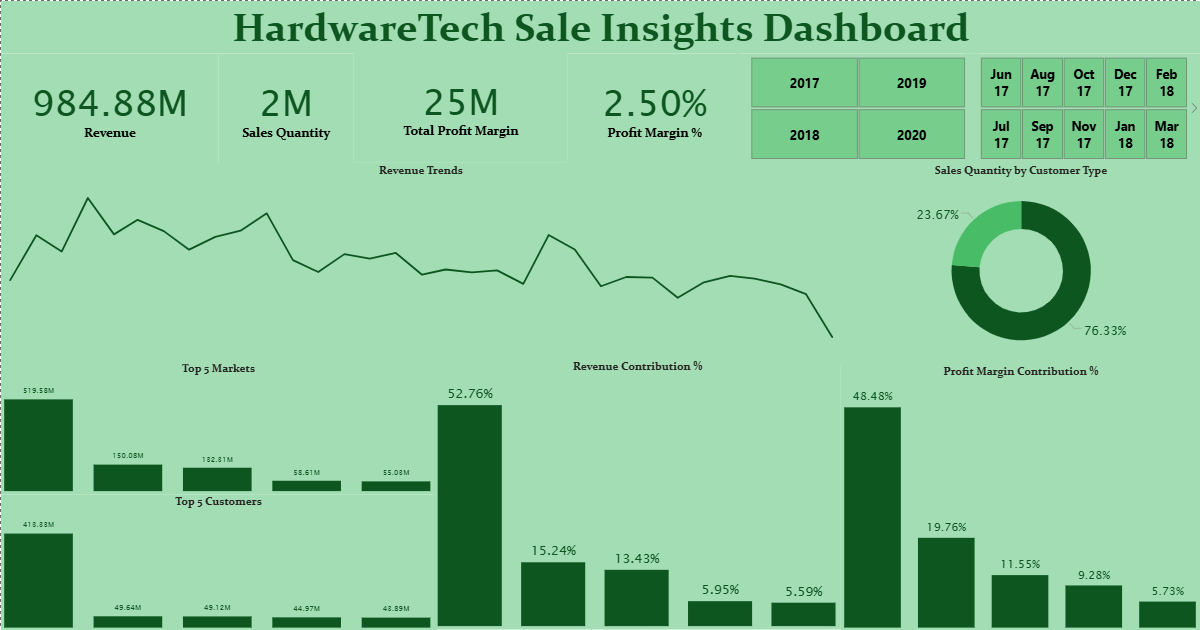

The dashboard page shown, as its layout file describes it:
{"tool":"powerbi","page":{"name":"Page 1","canvas":[2000,1050],"ordinal":0},"visuals":[{"type":"card","fields":{"Values":["BaseMeasures.Revenue"]},"box":[0,87.5,362.5,182.5],"z":0},{"type":"card","fields":{"Values":["BaseMeasures.Sales Quantity"]},"box":[362.5,87.5,225,182.5],"z":1000},{"type":"donutChart","title":"Sales Quantity by Customer Type","fields":{"Category":["sales customers.customer_type"],"Y":["BaseMeasures.Sales Quantity"]},"box":[1400,270,600,335],"z":2000},{"type":"slicer","fields":{"Values":["sales date.year"]},"box":[1225,87.5,405,182.5],"z":3000},{"type":"columnChart","title":"Top 5 Customers","fields":{"Category":["sales customers.custmer_name"],"Y":["BaseMeasures.Revenue"]},"box":[0,822.5,725,227.5],"z":4000},{"type":"columnChart","title":"Top 5 Markets","fields":{"Category":["sales markets.markets_name"],"Y":["BaseMeasures.Revenue"]},"box":[0,600,725,222.5],"z":5000},{"type":"lineChart","title":"Revenue Trends","fields":{"Y":["BaseMeasures.Revenue"],"Category":["sales date.cy_date.Variation.Date Hierarchy.Year","sales date.cy_date.Variation.Date Hierarchy.Month"]},"box":[0,270,1400,335],"z":6000},{"type":"slicer","fields":{"Values":["sales date.cy_date"]},"box":[1607.5,87.5,392.5,182.5],"z":7000},{"type":"shape","box":[0,0,2000,87.5],"z":8000},{"type":"card","fields":{"Values":["BaseMeasures.Total Profit Margin"]},"box":[587.5,82.5,357.5,187.5],"z":9000},{"type":"card","fields":{"Values":["BaseMeasures.Profit Margin %"]},"box":[945,87.5,287.5,182.5],"z":10000},{"type":"columnChart","title":"Profit Margin Contribution %","fields":{"Category":["sales markets.markets_name"],"Y":["BaseMeasures.Profit Margin Contribution %"]},"box":[1400,605,600,445],"z":11000},{"type":"clusteredColumnChart","title":"Revenue Contribution %","fields":{"Category":["sales markets.markets_name"],"Y":["BaseMeasures.Revenue Contribution %"]},"box":[722.5,597.5,677.5,450],"z":12000}]}

Visuals, with their boxes in screenshot pixels (x1, y1, x2, y2), scaled from the page's 2000x1050 canvas onto the 1200x630 screenshot:
card - BaseMeasures.Revenue: 0/52/218/162
card - BaseMeasures.Sales Quantity: 218/52/352/162
"Sales Quantity by Customer Type" donutChart: 840/162/1199/363
slicer - sales date.year: 735/52/978/162
"Top 5 Customers" columnChart: 0/494/435/629
"Top 5 Markets" columnChart: 0/360/435/494
"Revenue Trends" lineChart: 0/162/840/363
slicer - sales date.cy_date: 964/52/1199/162
shape: 0/0/1199/52
card - BaseMeasures.Total Profit Margin: 352/50/567/162
card - BaseMeasures.Profit Margin %: 567/52/740/162
"Profit Margin Contribution %" columnChart: 840/363/1199/629
"Revenue Contribution %" clusteredColumnChart: 434/358/840/628
